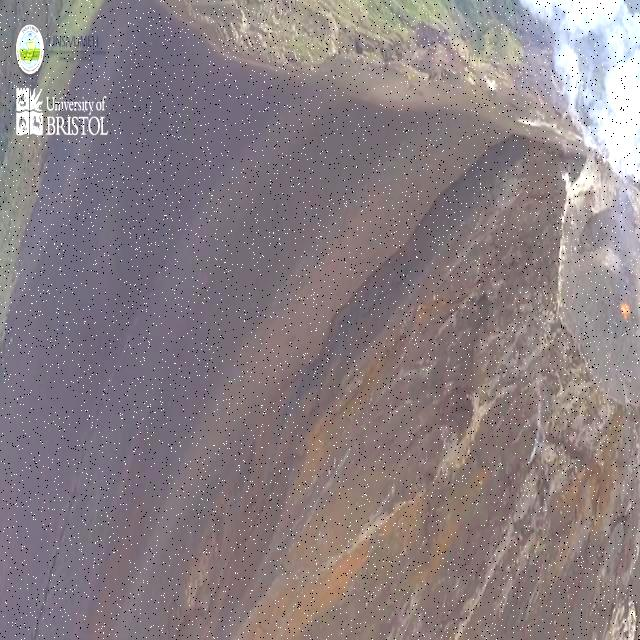Plume: (519, 0, 640, 173)
Summit: (532, 121, 640, 450)
